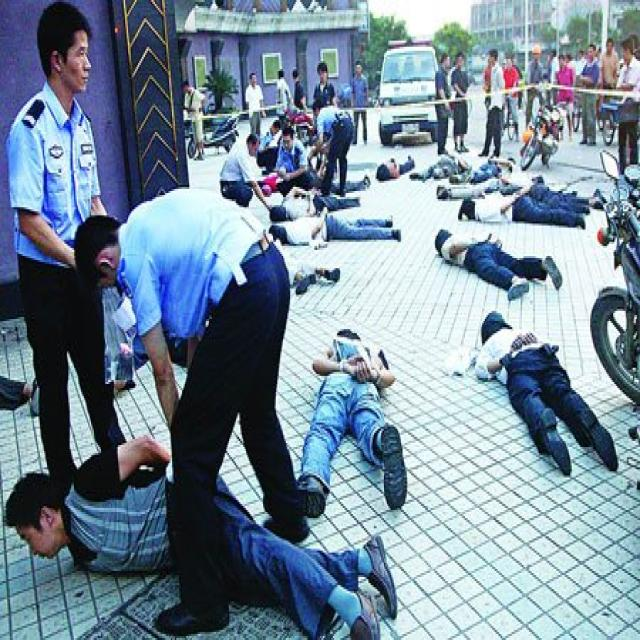10-: (0, 0, 637, 638)
down: (4, 445, 414, 638), (468, 306, 620, 488), (289, 317, 411, 514), (430, 226, 563, 319), (452, 191, 586, 232), (269, 211, 401, 248), (260, 185, 362, 217), (407, 144, 471, 183), (429, 173, 522, 197), (471, 146, 522, 179), (372, 148, 413, 183)
